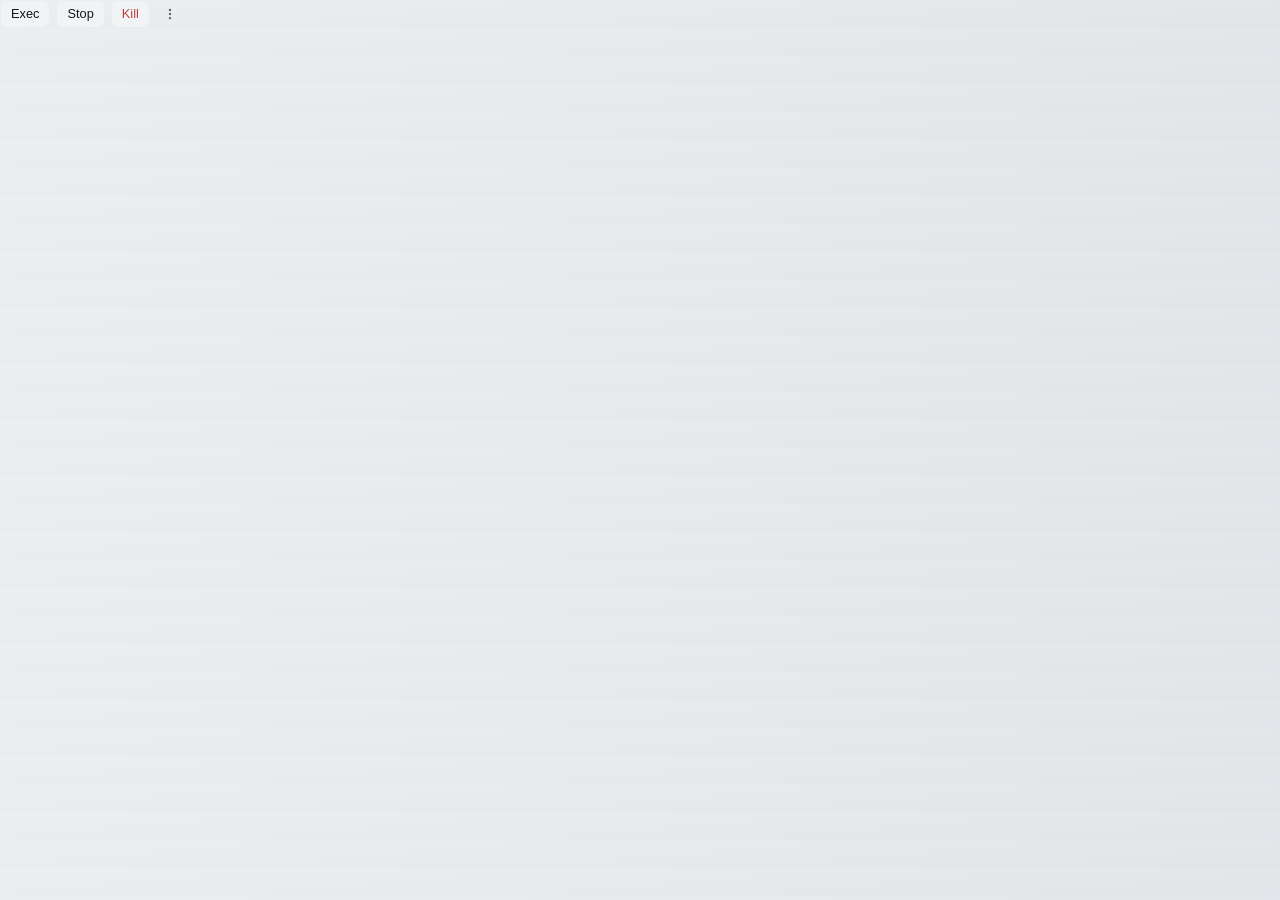
Test case: Exec in the header › sends the optional one-shot prompt from the modal and closes it
The width and height of the screenshot is (1280, 900).
Click the button "Exec": (25, 14) [0,0,50,28]
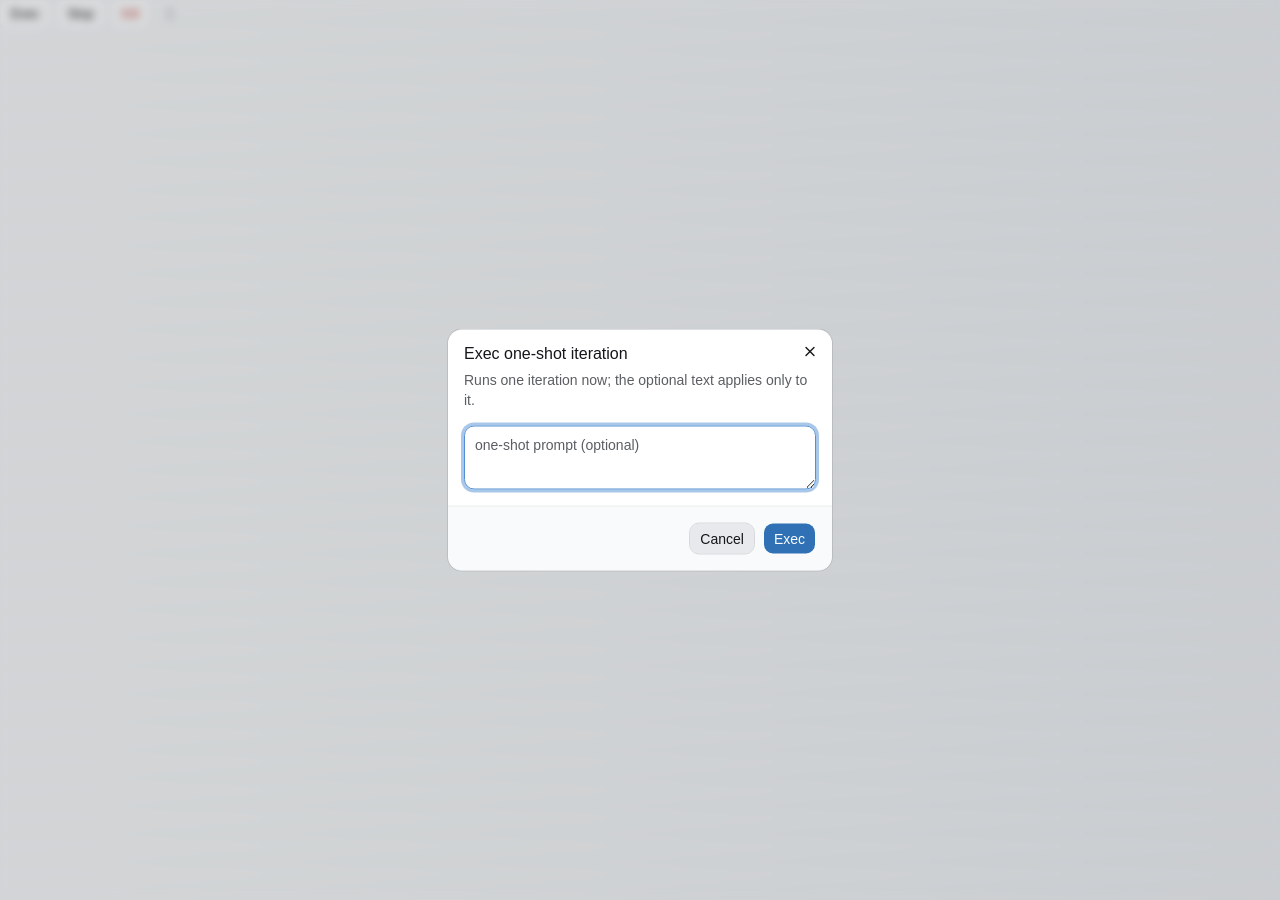
In the text box with placeholder "one-shot prompt (optional)": (640, 458) [464,426,816,490], type "continue this task"
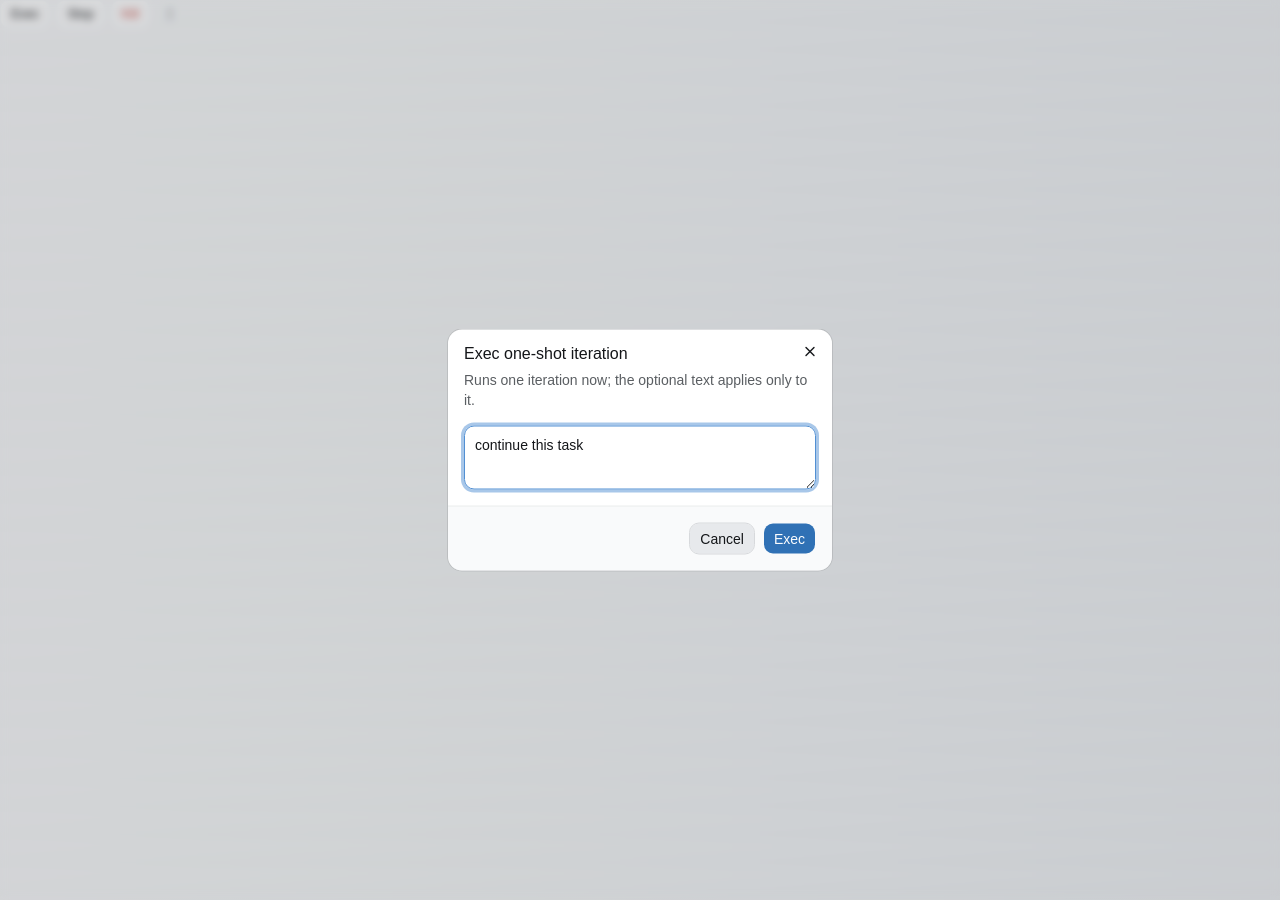
Click the button "Exec": (789, 538) [763,522,816,554]
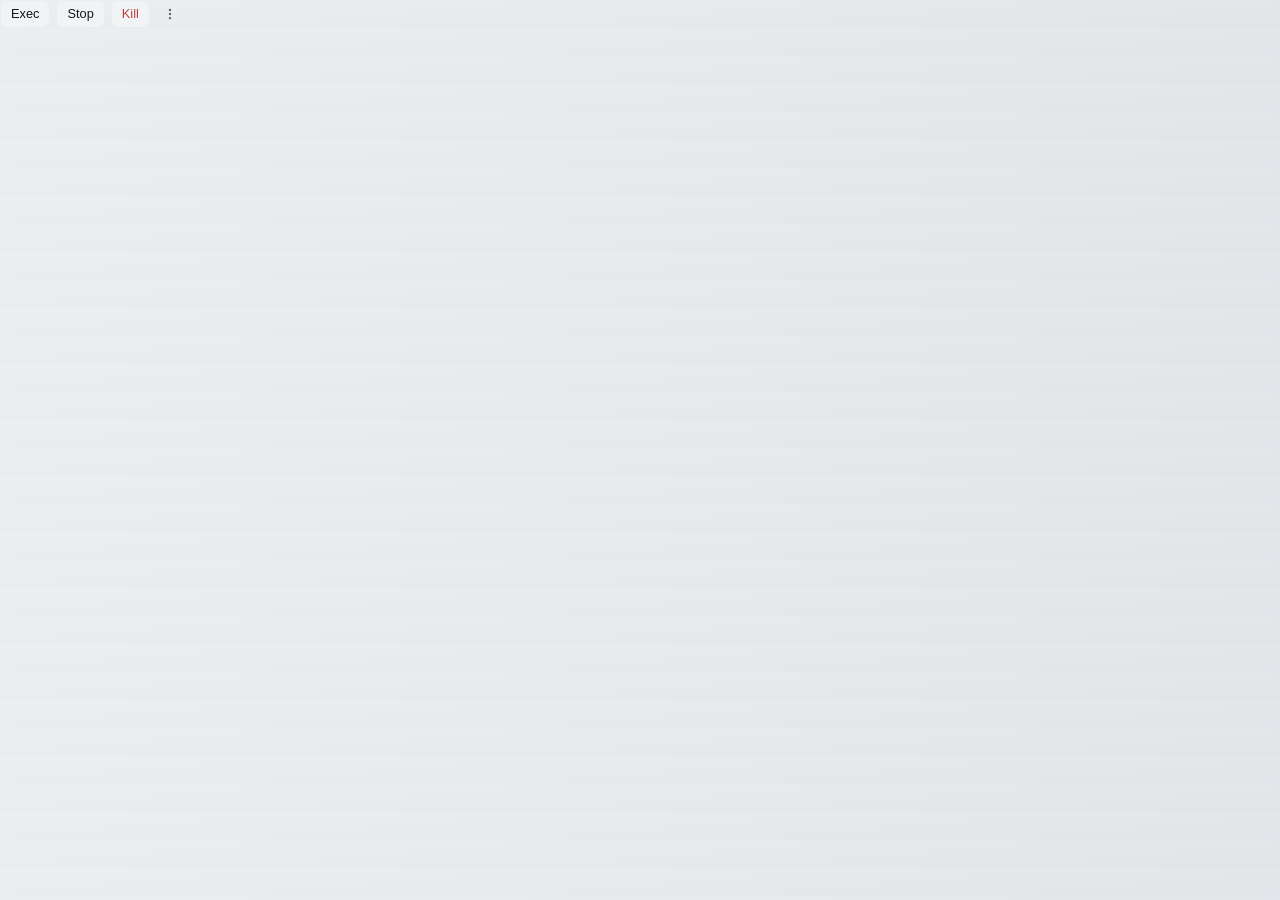
Now the dialog is gone
